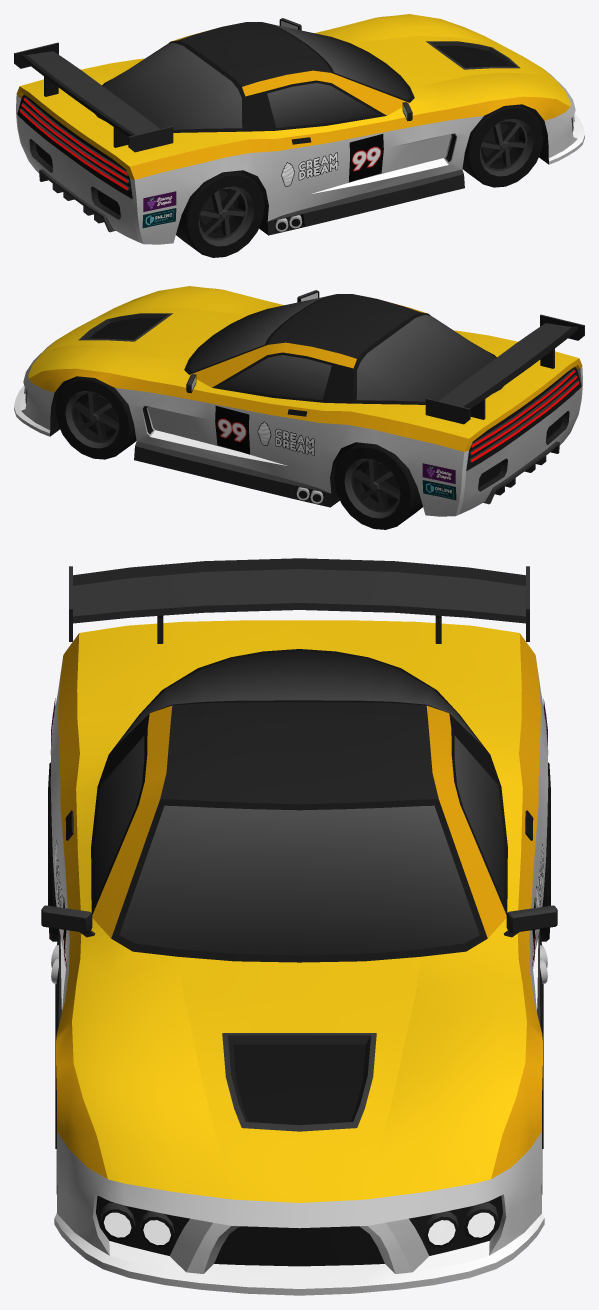
File: RaceCar_080.glb
The picture shows the model from 3 angles, top to bottom: view 1: azimuth 30°, elevation 25°; view 2: azimuth 150°, elevation 25°; view 3: azimuth 270°, elevation 25°; orthographic projection. The views are drawn at different scales.
Parts seen in each view (by area): view 1: RaceCar_080, wheel_3_RaceCar_080_Wheel_2R, wheel_1_RaceCar_080_Wheel_1R; view 2: RaceCar_080, wheel_2_RaceCar_080_Wheel_2L, wheel_0_RaceCar_080_Wheel_1L; view 3: RaceCar_080.
Part boxes in pixels (x1,y1,x2,y2): RaceCar_080: [14, 14, 584, 244]; wheel_3_RaceCar_080_Wheel_2R: [176, 170, 264, 257]; wheel_1_RaceCar_080_Wheel_1R: [462, 104, 543, 187]; RaceCar_080: [14, 286, 584, 516]; wheel_2_RaceCar_080_Wheel_2L: [334, 442, 422, 529]; wheel_0_RaceCar_080_Wheel_1L: [55, 376, 136, 459]; RaceCar_080: [41, 558, 557, 1295].
Size of the model in its own units: 4.44 by 1.23 by 2.02.
Materials: 3 (3 with a texture image).
